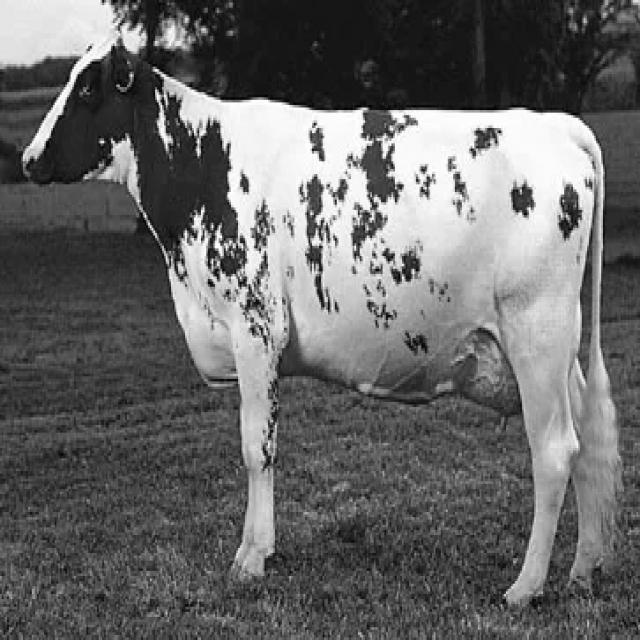Cow: (18, 23, 622, 614)
